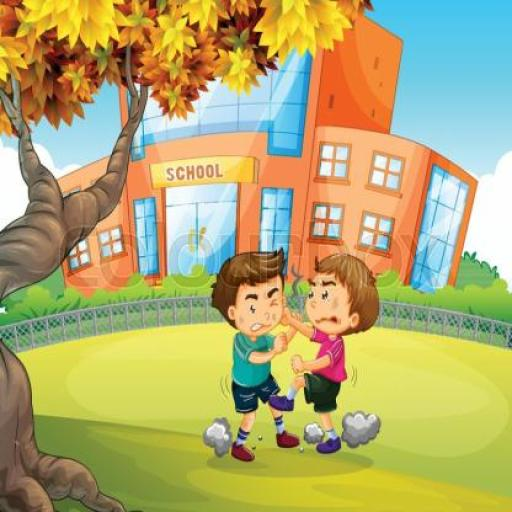Fighting: (205, 247, 378, 470)
